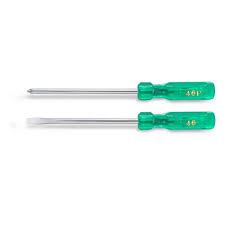screwdriver: (24, 110, 215, 129), (26, 81, 214, 99)
